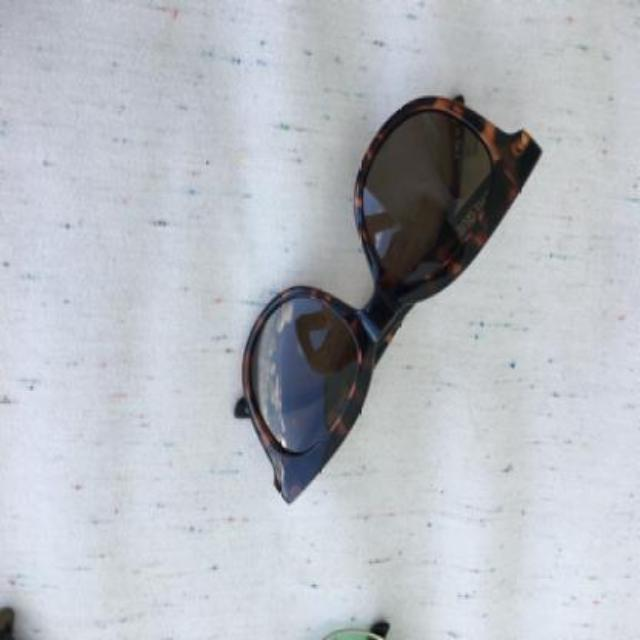sunglasses: (232, 92, 540, 504)
